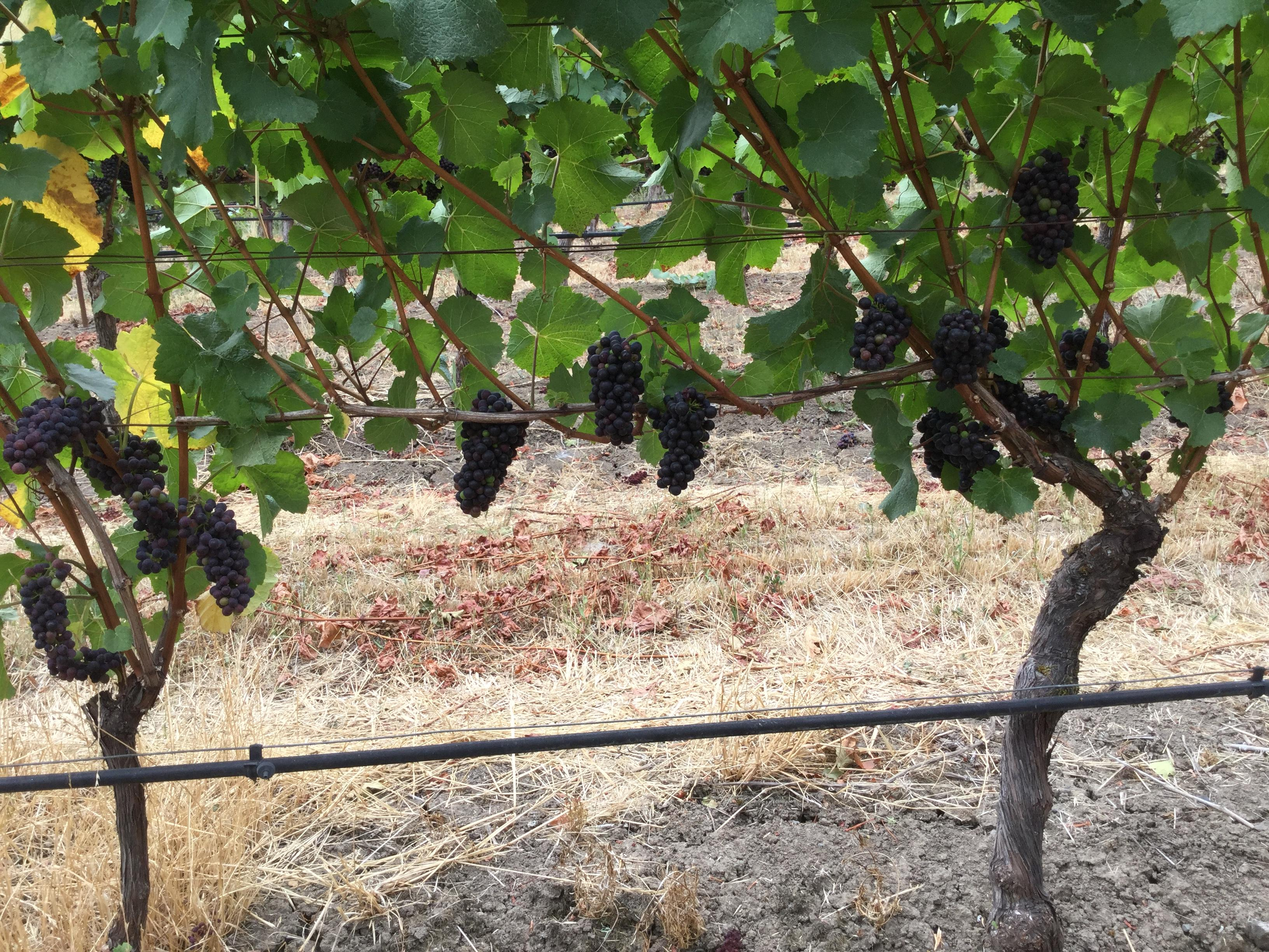leaf: (533, 99, 641, 232), (853, 390, 918, 520), (156, 17, 220, 147), (797, 82, 884, 177), (446, 188, 518, 299), (216, 44, 318, 122), (388, 0, 509, 62), (678, 0, 776, 74), (433, 69, 506, 167), (528, 0, 665, 50), (14, 16, 99, 94), (789, 0, 875, 74), (1094, 17, 1176, 88), (1064, 392, 1154, 452), (437, 296, 503, 368), (1162, 0, 1263, 38), (969, 465, 1039, 518), (1165, 384, 1225, 445), (0, 143, 59, 202), (135, 0, 192, 47), (459, 168, 505, 208), (364, 418, 417, 451), (376, 374, 417, 408), (248, 146, 249, 158), (435, 102, 439, 105), (649, 90, 654, 92), (643, 86, 645, 88)
